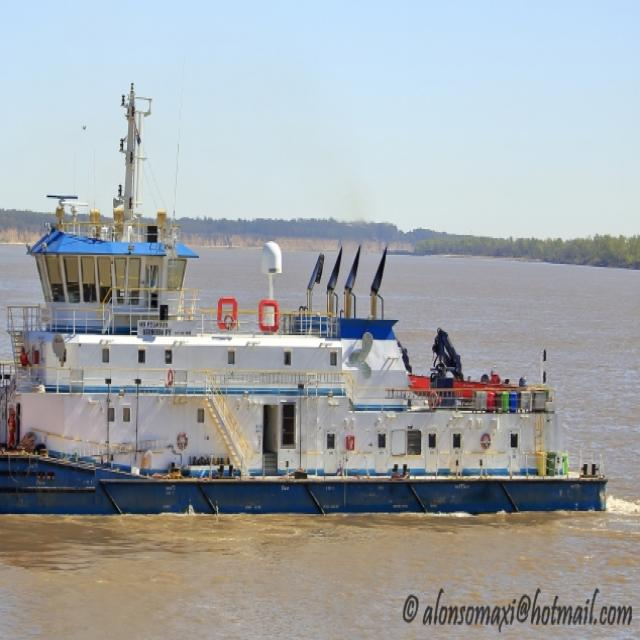tugboat: (1, 79, 612, 537)
